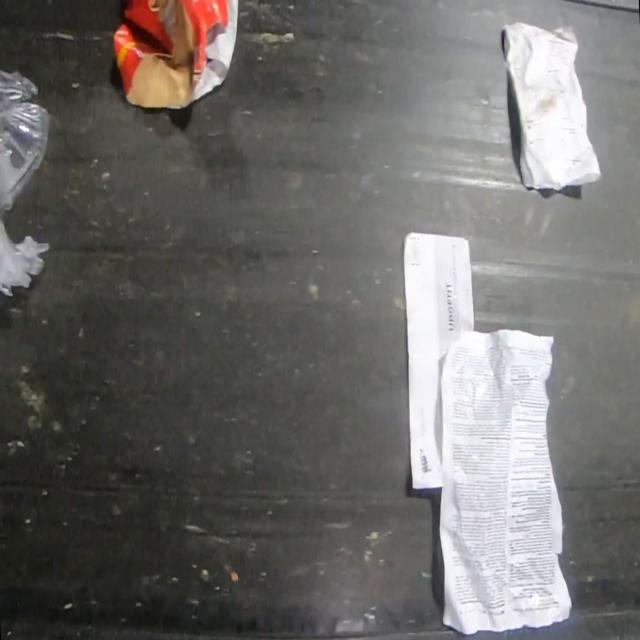cardboard: (111, 0, 238, 111)
rigid_plastic: (0, 66, 50, 298)
